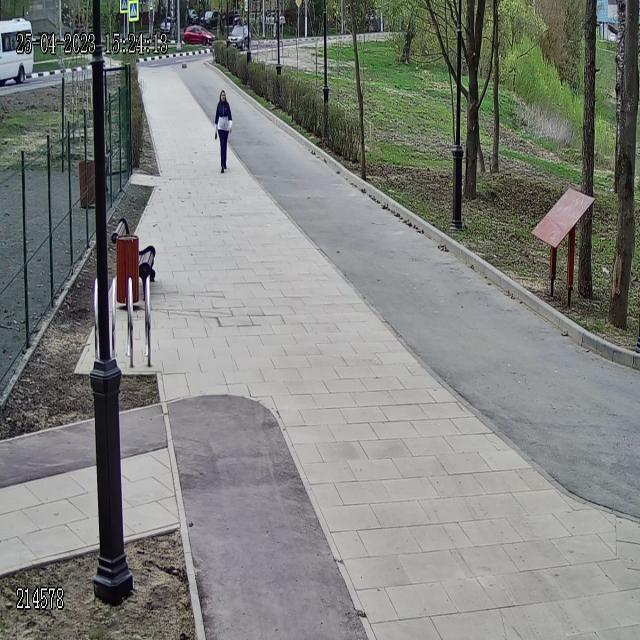person: (216, 87, 232, 175)
